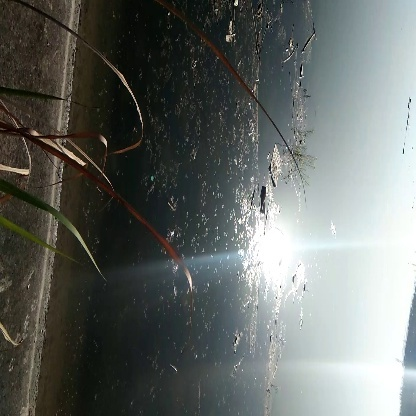plastic-garbage: (265, 141, 283, 185)
